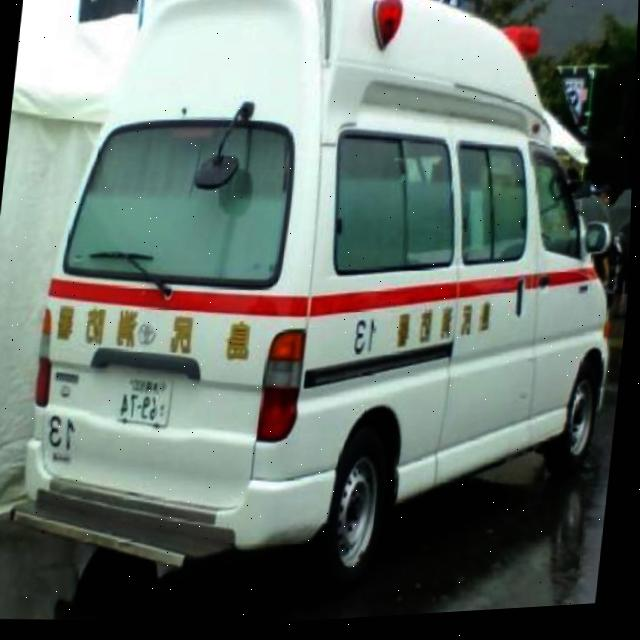emergency: (5, 0, 640, 625)
